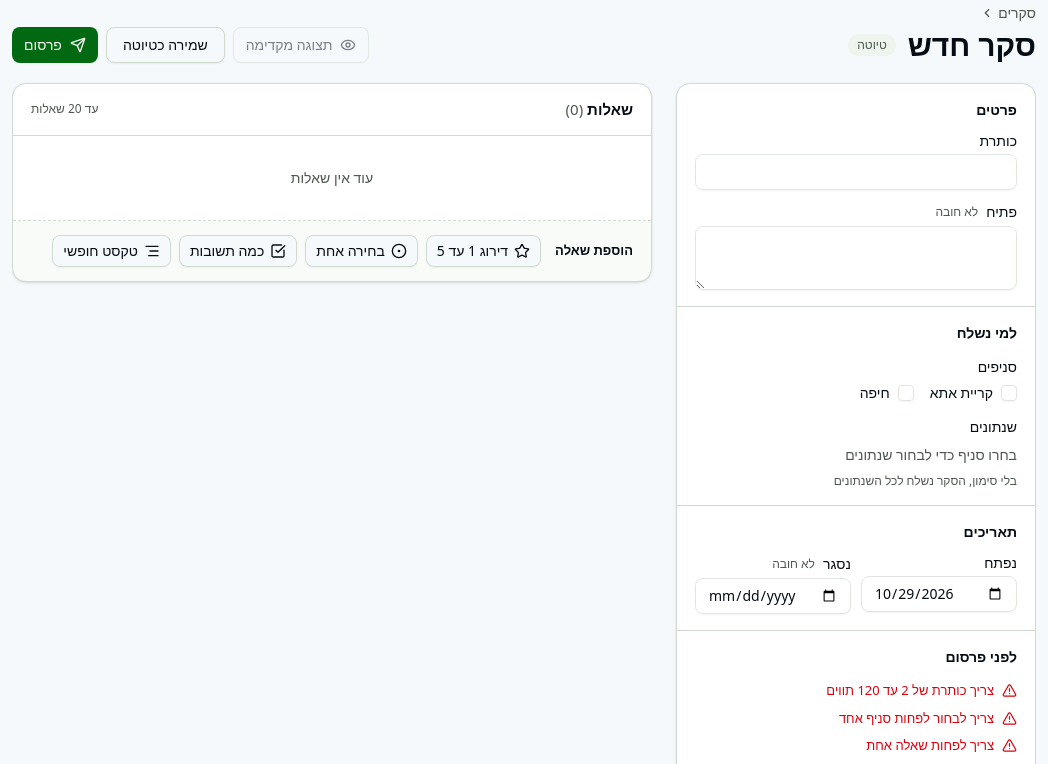
Test: SurveyBuilder: the publish checklist › a new draft lists what it lacks, and each part turns to a check as it is filled
Expected: the list item "צריך כותרת של 2 עד 120 תווים" is shown, [826, 681, 1017, 699]
Expected: the list item "צריך לבחור לפחות סניף אחד" is shown, [839, 708, 1017, 726]
In the field labelled "כותרת": (856, 172) [695, 154, 1017, 190], type "איך היה לך באקדמיה?"
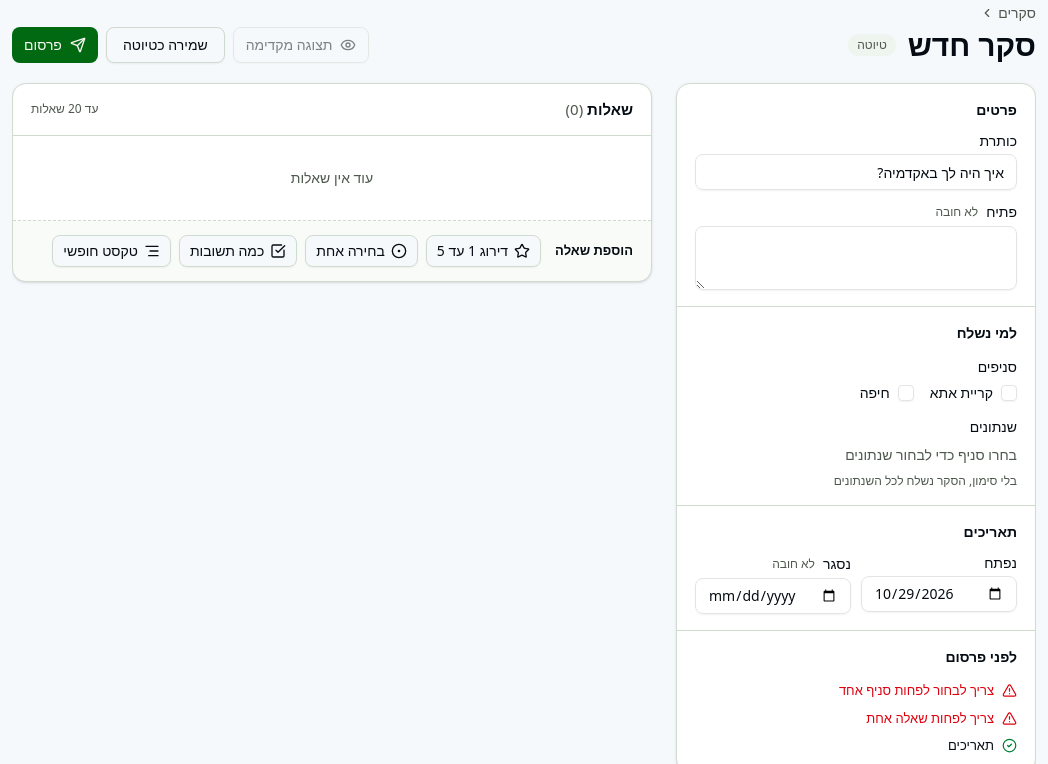
Click the checkbox named "קריית אתא" next to "קריית אתא": (1009, 393) [1001, 385, 1017, 401]
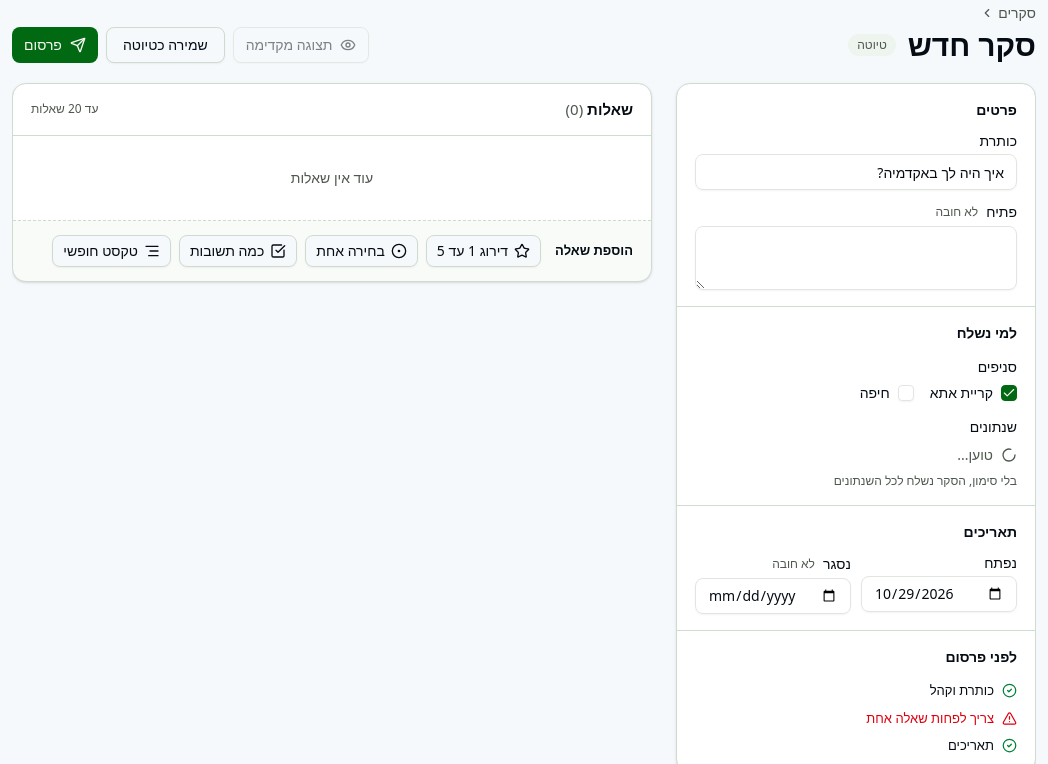
Result: the list item "כותרת וקהל" is shown at [930, 681, 1017, 699]
Click the button "דירוג 1 עד 5": (483, 250) [426, 234, 541, 266]
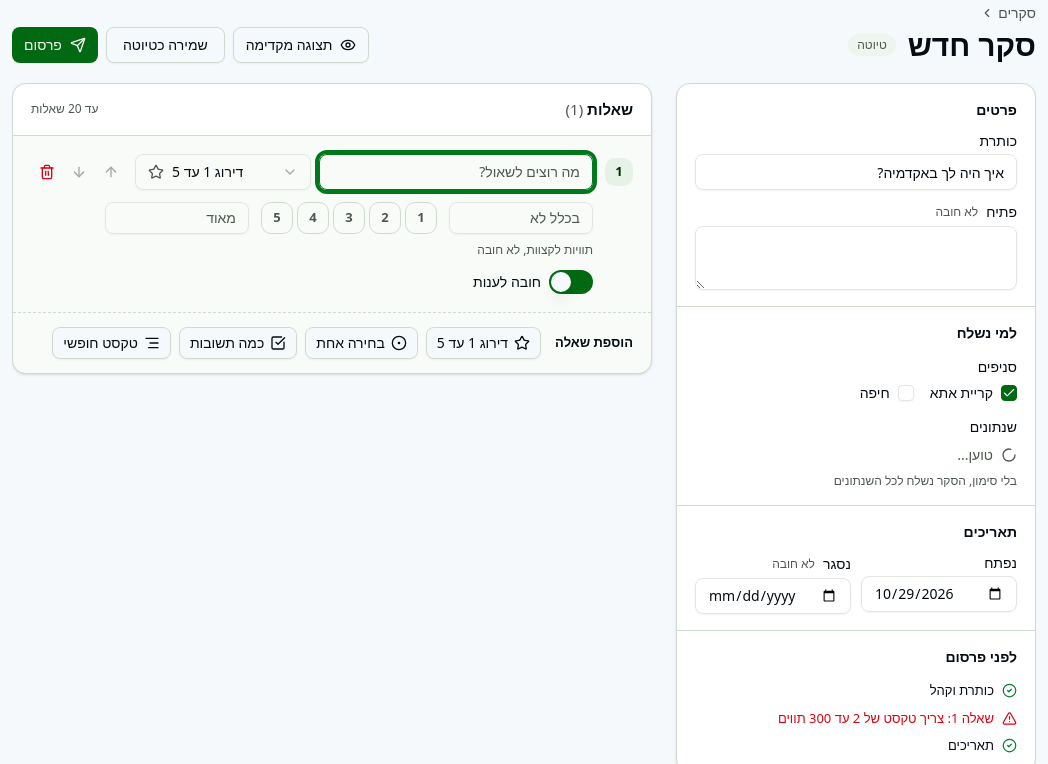
Result: the list item "שאלה 1: צריך טקסט של 2 עד 300 תווים" is shown at [778, 708, 1017, 726]
In the field named "טקסט שאלה 1": (456, 172) [319, 154, 593, 190], type "כמה נהנית?"
(page scrolled)
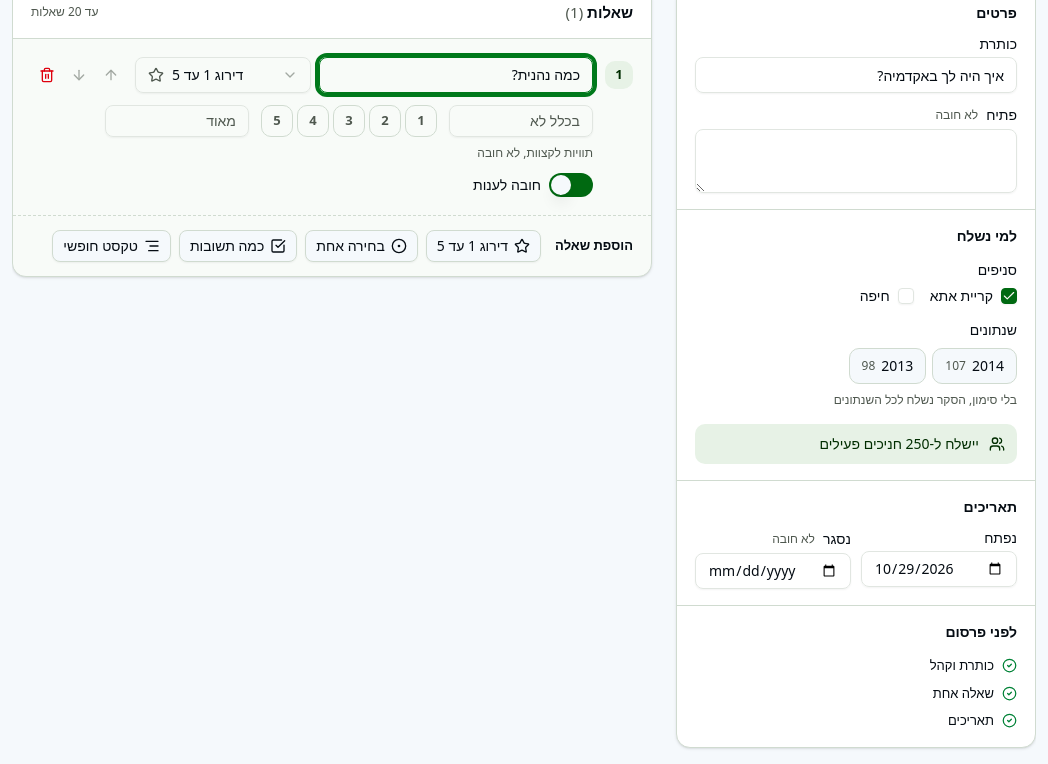
Result: the list item "שאלה אחת" is shown at [933, 684, 1017, 702]
